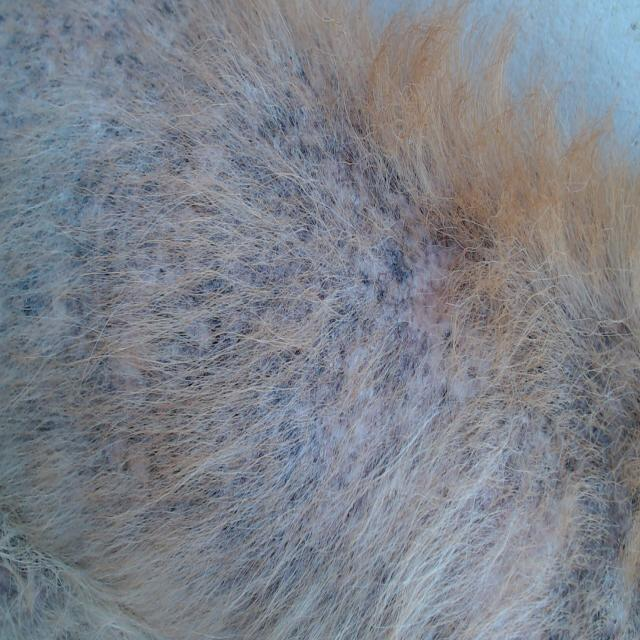demodicosis: (211, 120, 451, 522), (3, 0, 147, 297)
